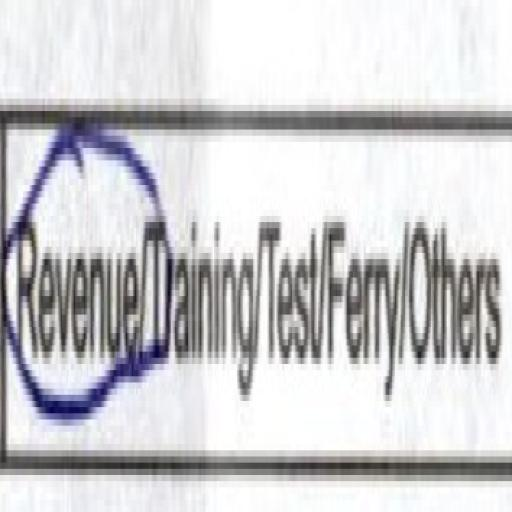check: (2, 112, 147, 494)
